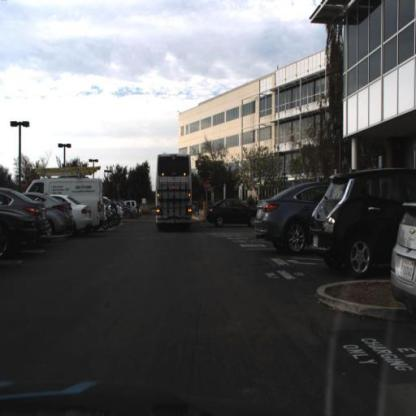car: (308, 165, 416, 277), (255, 175, 312, 256), (1, 186, 48, 263), (392, 189, 416, 331), (205, 188, 257, 234), (205, 199, 256, 228), (44, 194, 73, 238), (23, 192, 48, 240), (50, 197, 76, 235), (72, 195, 92, 242), (77, 202, 94, 233)
truck: (154, 150, 194, 228), (92, 165, 104, 234), (93, 174, 105, 233)
